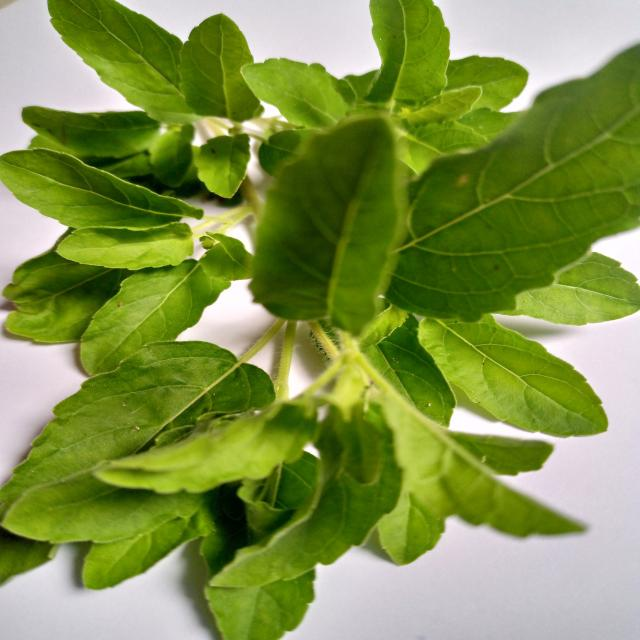tulsi: (41, 0, 261, 119), (410, 314, 616, 439), (0, 144, 208, 231)
